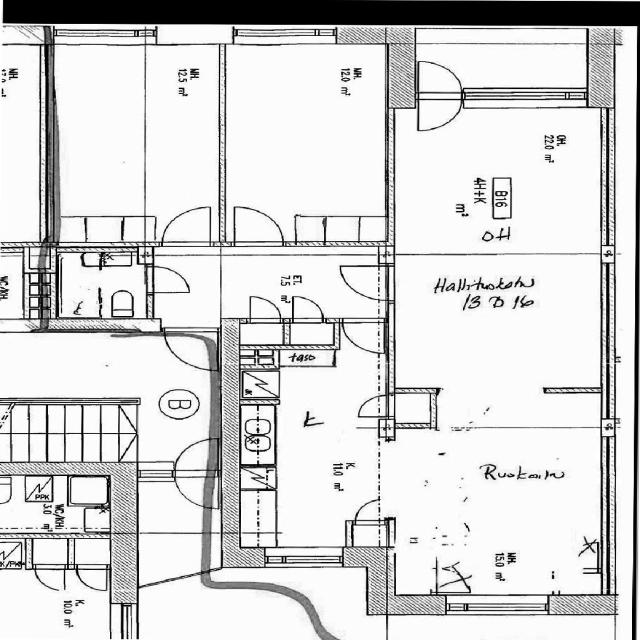door: (168, 440, 214, 508), (228, 202, 287, 248), (158, 202, 217, 247), (413, 92, 464, 133), (337, 264, 390, 302), (415, 58, 465, 94), (338, 319, 388, 354), (171, 436, 214, 473), (146, 263, 194, 296), (287, 293, 327, 323), (245, 293, 285, 323), (72, 565, 111, 593), (432, 564, 470, 592), (32, 565, 68, 593), (354, 393, 391, 419), (350, 498, 385, 524)
window: (461, 86, 590, 113), (229, 24, 341, 50), (49, 25, 158, 48), (442, 596, 550, 618), (262, 548, 347, 572)
zone: (54, 43, 222, 237), (219, 47, 391, 226), (422, 422, 606, 586), (132, 586, 316, 640), (6, 402, 141, 470), (56, 259, 152, 323), (235, 321, 340, 368), (0, 248, 33, 326), (388, 390, 440, 430), (29, 537, 72, 568), (68, 476, 108, 508), (68, 537, 110, 567), (23, 474, 56, 504)
